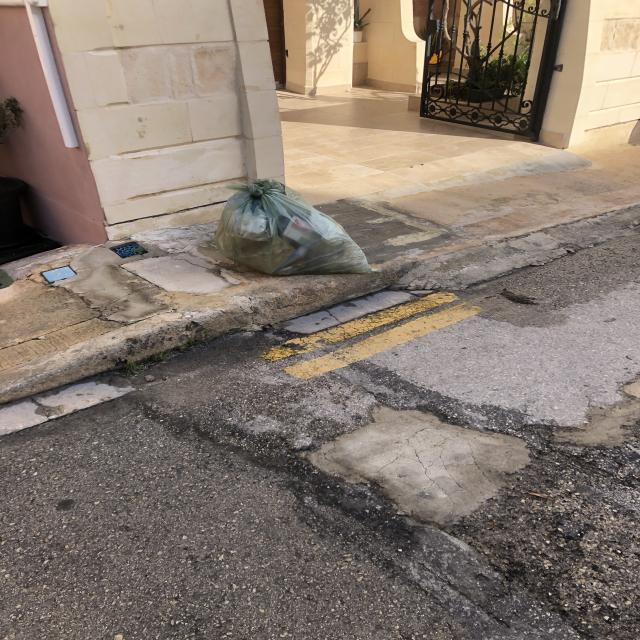Recycled Waste -Grey or Green Bag-: (216, 180, 381, 277)
